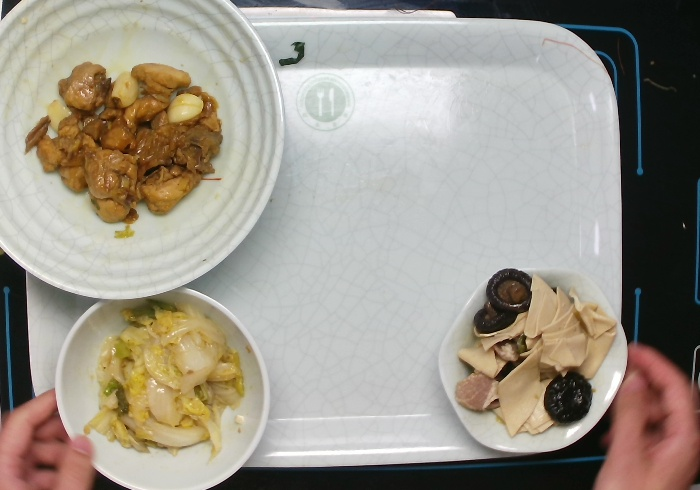JYsf-Da_Tang_Wan: (1, 1, 287, 301)
JYsf-Fan_Wan: (46, 284, 271, 490)
WCQzf-Hua_Duo_Wan: (433, 263, 631, 456)
